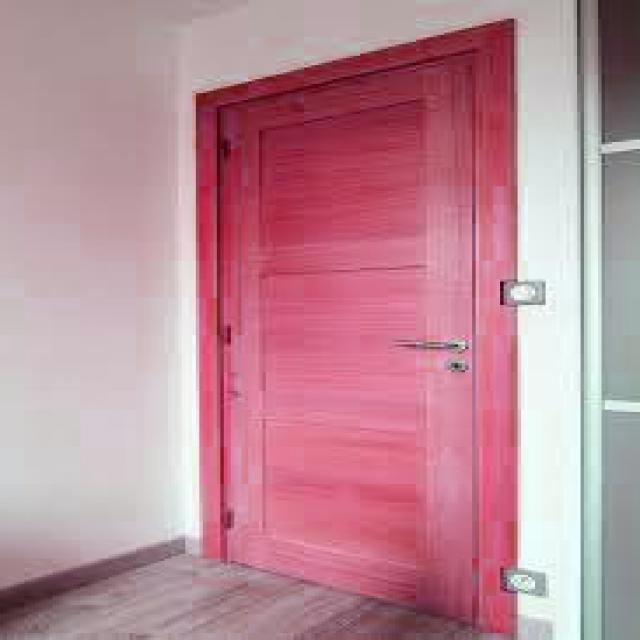door: (196, 19, 517, 631)
